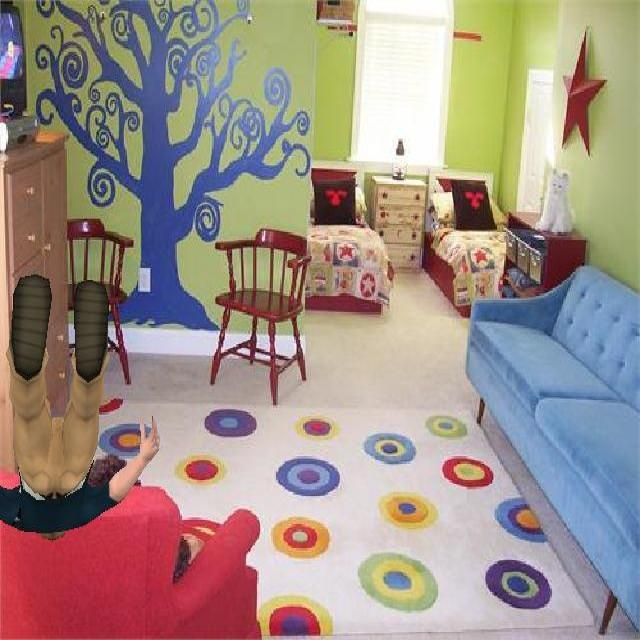obstacle: (0, 272, 163, 543)
